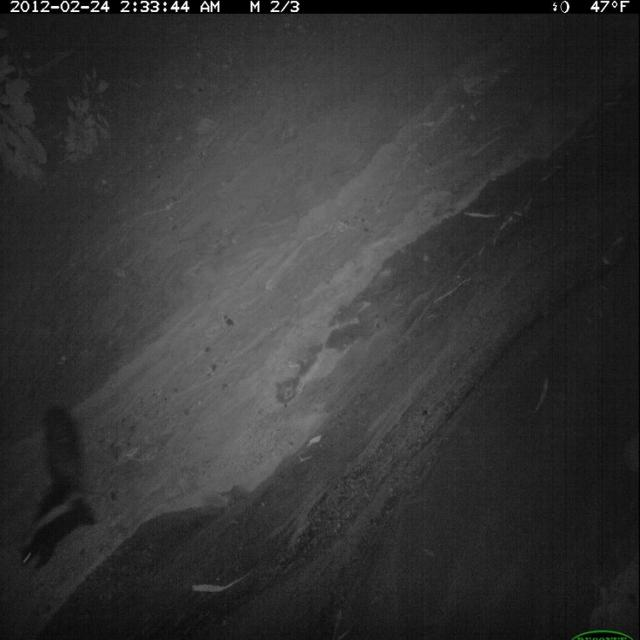skunk: (14, 401, 98, 581)
